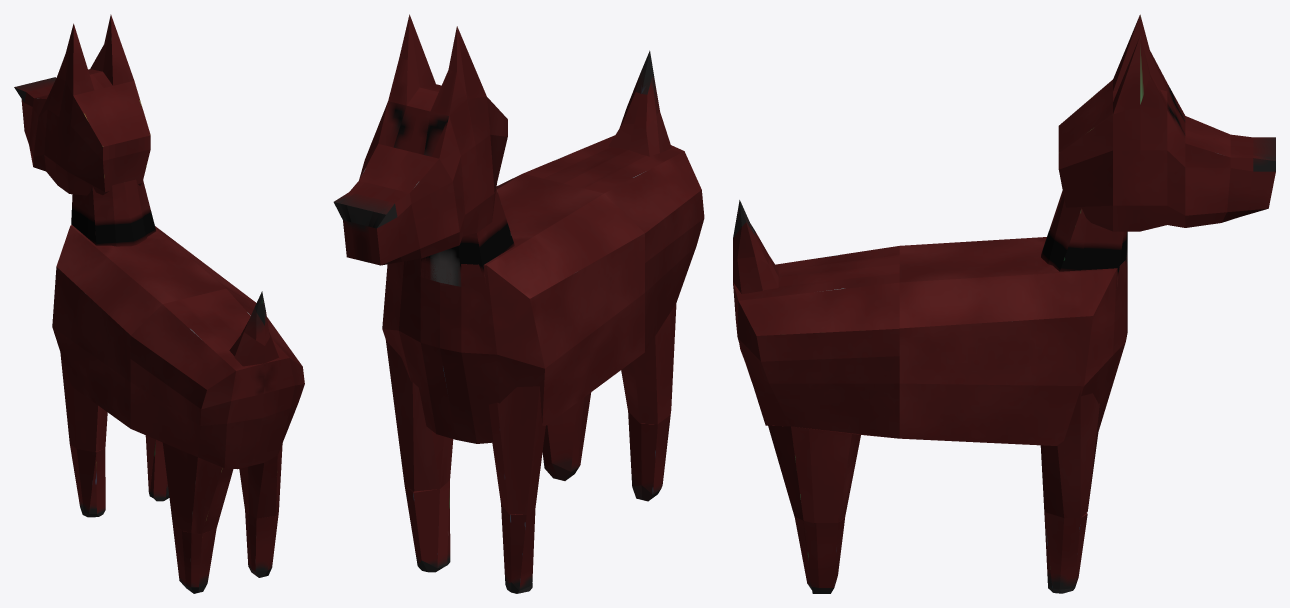
The model's file is Hellhound6769 1.fbx.
The picture shows the model from 3 angles, left to right: view 1: azimuth 30°, elevation 25°; view 2: azimuth 150°, elevation 25°; view 3: azimuth 270°, elevation 25°; orthographic projection. The views are drawn at different scales.
Parts seen in each view (by area): view 1: torso_back, torso_front, head, Leg_Back_Top_Left, neck, Leg_Front_Top_Left, Leg_Back_Top_Right, Leg_Back_Bot_Left, Leg_Front_Bot_Left, tail, Leg_Back_Bot_Right, Leg_Front_Bot_Right; view 2: torso_front, head, torso_back, Leg_Front_Top_Left, Leg_Front_Top_Right, Leg_Back_Top_Left, neck, Leg_Front_Bot_Right, tail, Leg_Back_Bot_Left, Leg_Back_Bot_Right, Leg_Front_Bot_Left; view 3: torso_front, head, torso_back, Leg_Back_Top_Right, Leg_Front_Top_Right, neck, Leg_Front_Bot_Right, Leg_Back_Bot_Right, tail.
Part boxes in pixels (box(x1,y1,x2,y2)): torso_back: box(130, 288, 304, 469); torso_front: box(52, 225, 256, 428); head: box(14, 14, 150, 195); Leg_Back_Top_Left: box(162, 442, 233, 534); neck: box(71, 179, 155, 246); Leg_Front_Top_Left: box(60, 353, 107, 452); Leg_Back_Top_Right: box(239, 443, 282, 518); Leg_Back_Bot_Left: box(172, 523, 216, 593); Leg_Front_Bot_Left: box(70, 444, 105, 517); tail: box(229, 291, 279, 366); Leg_Back_Bot_Right: box(245, 510, 278, 577); Leg_Front_Bot_Right: box(145, 435, 169, 501); torso_front: box(382, 173, 644, 443); head: box(333, 14, 507, 265); torso_back: box(523, 135, 704, 351); Leg_Front_Top_Left: box(488, 386, 545, 514); Leg_Front_Top_Right: box(386, 340, 453, 491); Leg_Back_Top_Left: box(621, 303, 676, 424); neck: box(405, 188, 514, 286); Leg_Front_Bot_Right: box(404, 480, 450, 572); tail: box(608, 50, 671, 156); Leg_Back_Bot_Left: box(628, 411, 670, 501); Leg_Back_Bot_Right: box(542, 392, 591, 480); Leg_Front_Bot_Left: box(501, 504, 535, 593); torso_front: box(899, 237, 1127, 445); head: box(1058, 14, 1275, 231); torso_back: box(733, 246, 899, 438); Leg_Back_Top_Right: box(768, 425, 860, 523); Leg_Front_Top_Right: box(1040, 390, 1102, 517); neck: box(1041, 191, 1127, 289); Leg_Front_Bot_Right: box(1044, 512, 1087, 593); Leg_Back_Bot_Right: box(794, 517, 844, 593); tail: box(733, 200, 778, 293).
Bounding box in the file's own units: 15 × 52.19 × 46.88.
1 material, 1 textured.
